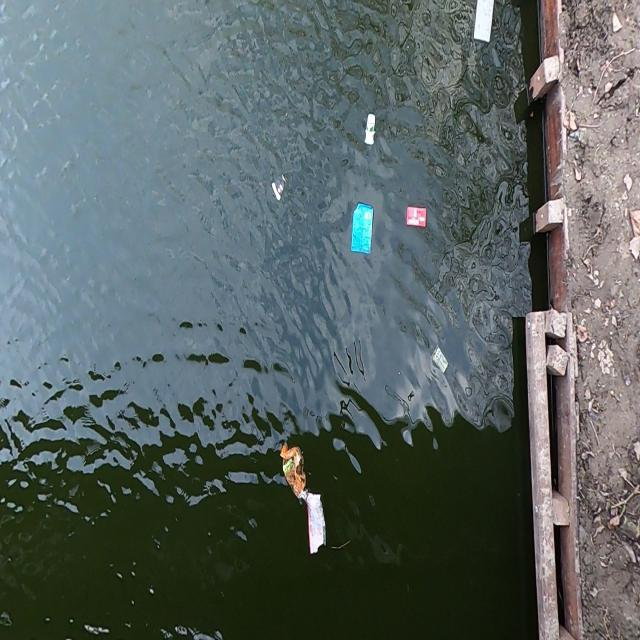Autre plastique: (347, 195, 378, 262)
Non plastique: (362, 111, 381, 150), (270, 170, 286, 203)
Sac plastique: (277, 438, 308, 500), (304, 493, 333, 558)
